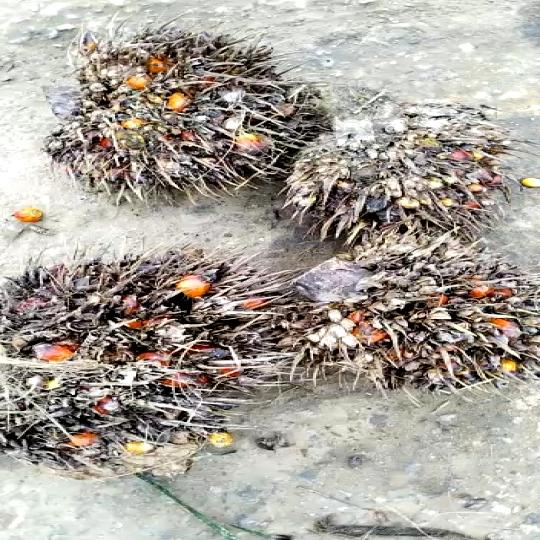terlalu masak: (0, 244, 279, 452), (27, 27, 329, 210), (246, 108, 521, 247), (288, 235, 540, 382)
